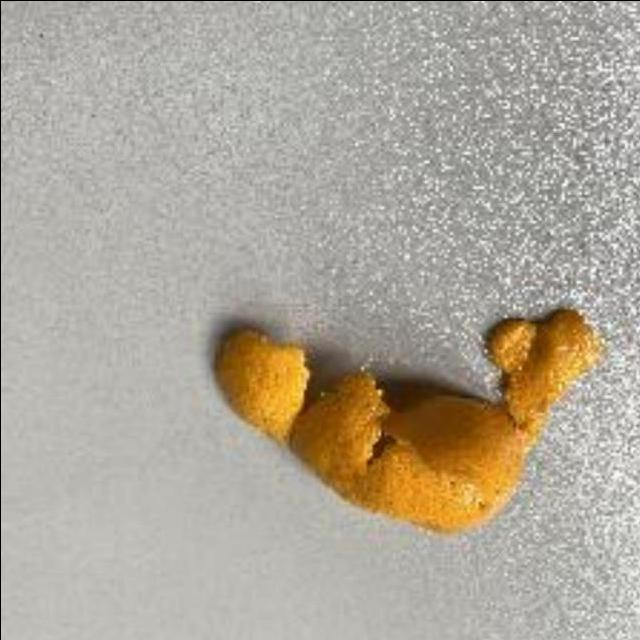orange peel: (202, 312, 598, 540)
